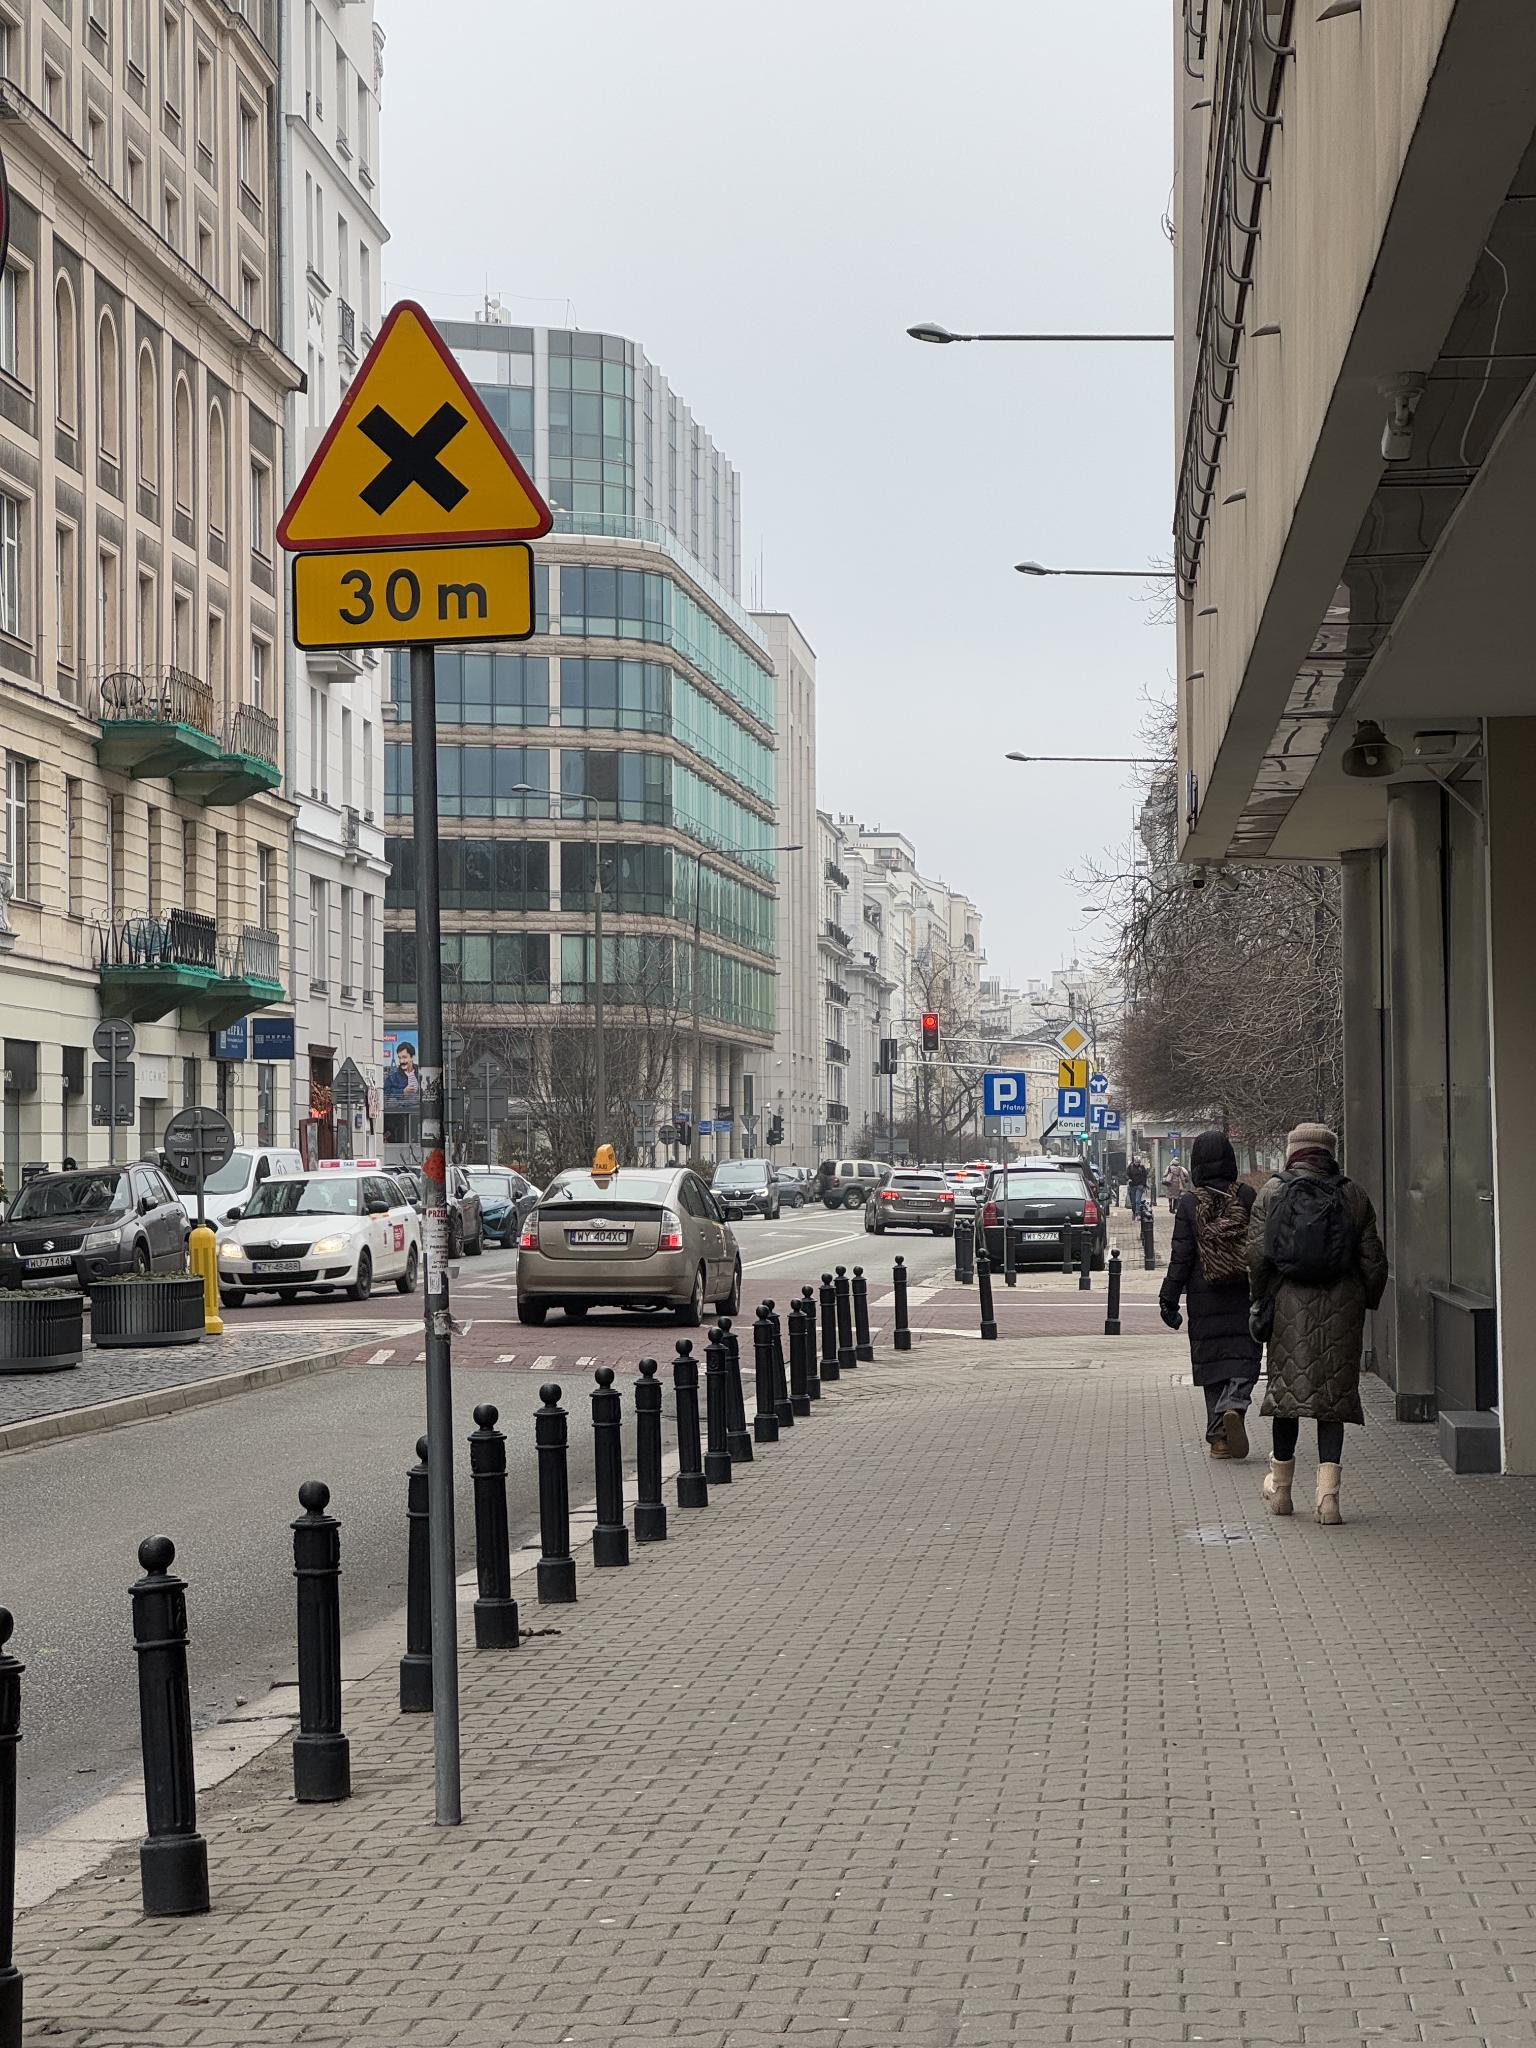information: (983, 1072, 1026, 1114), (1055, 1019, 1092, 1058), (1057, 1089, 1086, 1118), (1100, 1109, 1120, 1130), (1091, 1103, 1108, 1122)
mandatory: (1089, 1076, 1108, 1093)
other: (294, 543, 532, 651), (984, 1114, 1026, 1137), (1060, 1059, 1086, 1087), (1058, 1118, 1086, 1130), (1089, 1093, 1108, 1105), (1099, 1130, 1120, 1140), (1091, 1124, 1099, 1132)
prohibitory: (1050, 1105, 1058, 1129)
warning: (274, 298, 555, 552)
